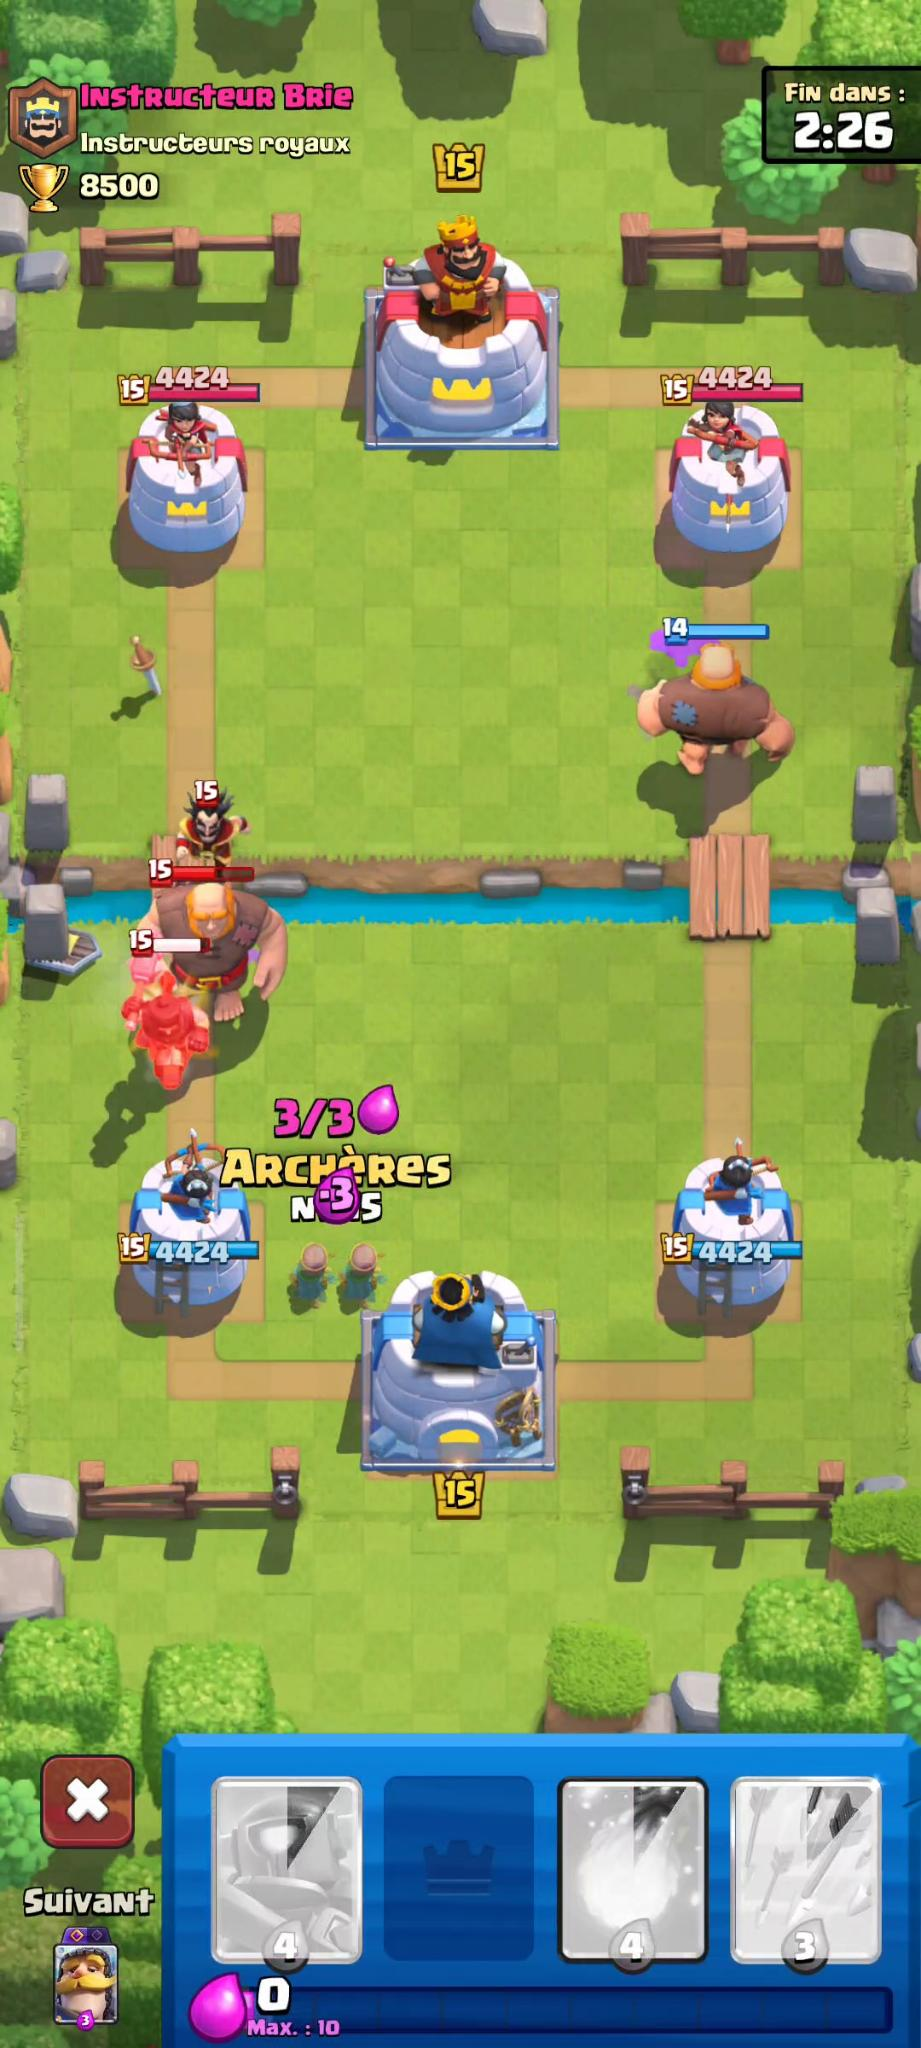archere: (289, 1245, 336, 1313), (340, 1243, 383, 1314)
geant: (127, 854, 289, 1020), (635, 613, 796, 775)
